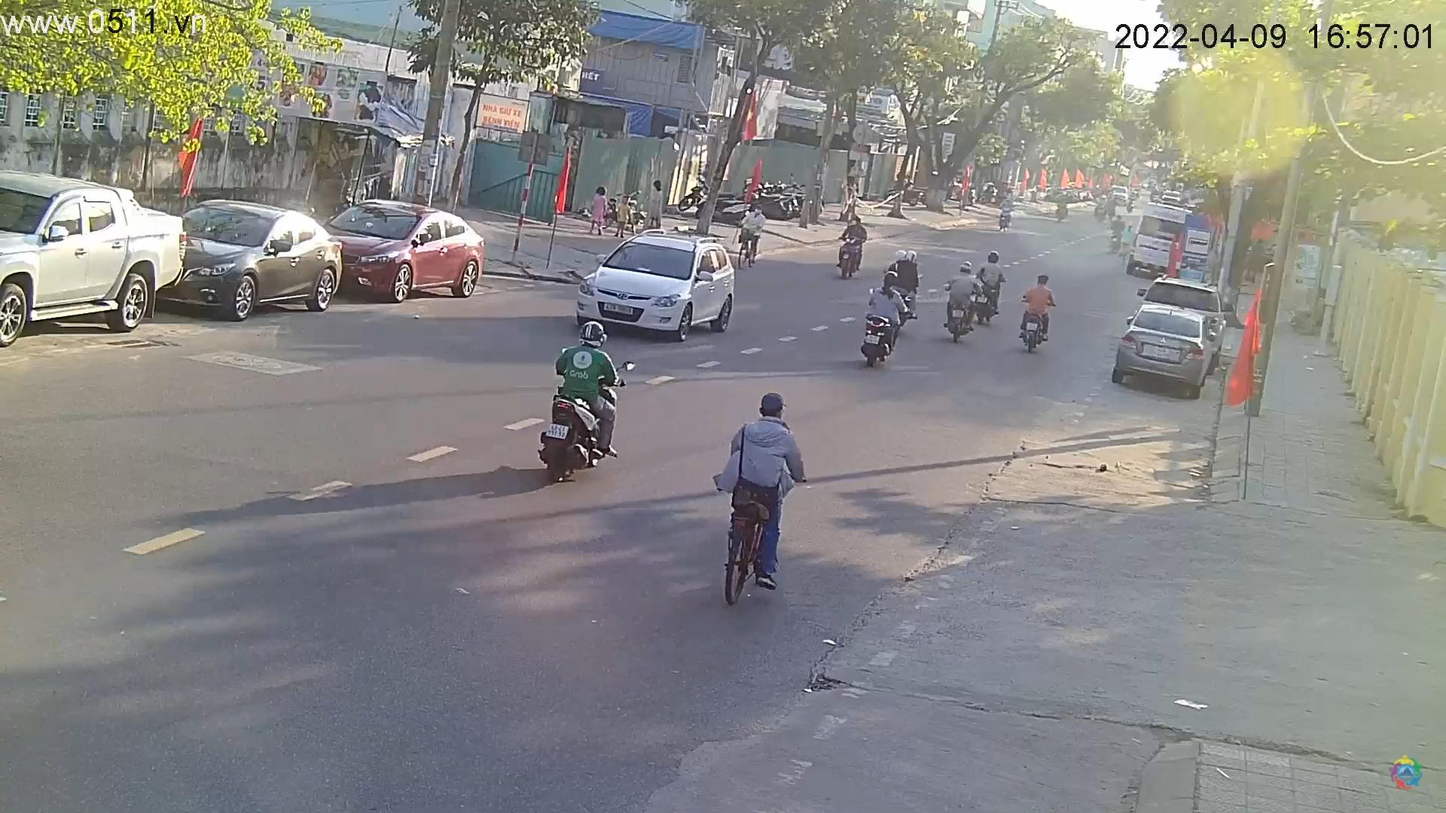car: (2, 172, 189, 350), (166, 201, 351, 322), (320, 198, 489, 305), (575, 233, 737, 339)
motorbike: (829, 224, 869, 286)
